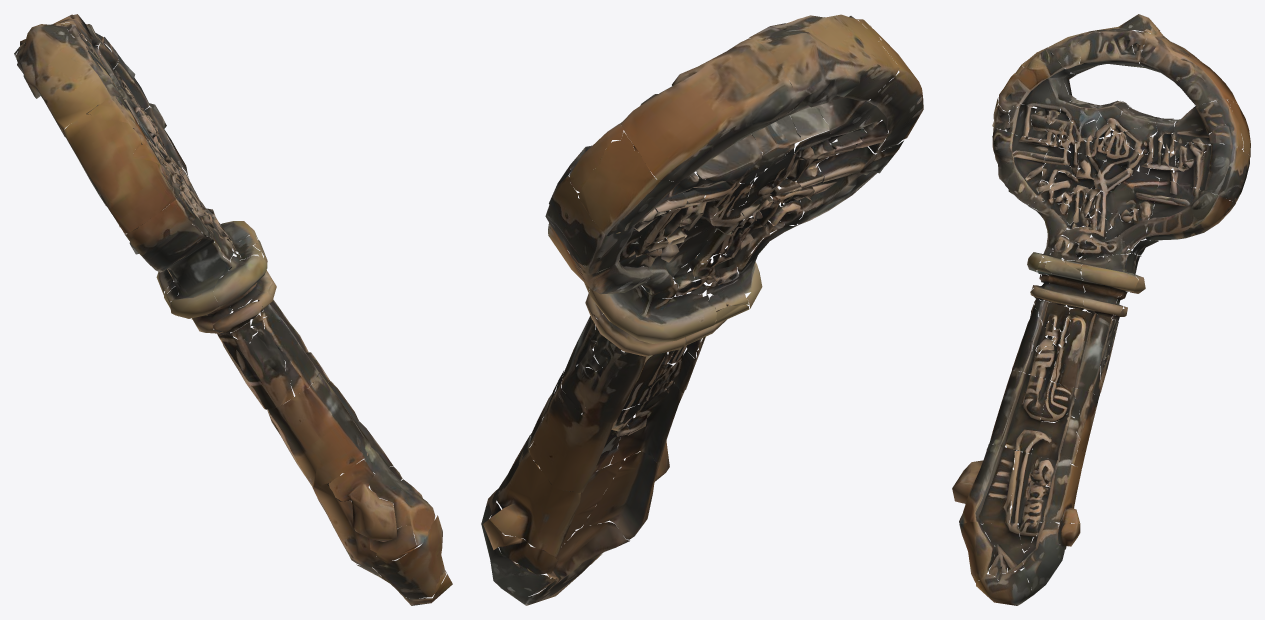
Rendered from prop_vaelor_key_LOD0.glb.
3 renders of one model, left to right at view 1: azimuth 30°, elevation 25°; view 2: azimuth 150°, elevation 25°; view 3: azimuth 270°, elevation 25°, orthographic. The views are drawn at different scales.
Parts seen in each view (by area): view 1: tripo_node_fc8d93ac-b99c-4fb0-929b-ac9bd457dcb8; view 2: tripo_node_fc8d93ac-b99c-4fb0-929b-ac9bd457dcb8; view 3: tripo_node_fc8d93ac-b99c-4fb0-929b-ac9bd457dcb8.
Boxes of the visible parts, x1,y1,x2,y2 form: tripo_node_fc8d93ac-b99c-4fb0-929b-ac9bd457dcb8: (14, 14, 452, 605); tripo_node_fc8d93ac-b99c-4fb0-929b-ac9bd457dcb8: (481, 14, 923, 605); tripo_node_fc8d93ac-b99c-4fb0-929b-ac9bd457dcb8: (952, 14, 1250, 605).
Size of the model in its own units: 0.6289 by 1 by 0.5729.
Materials: 1 (1 with a texture image).
